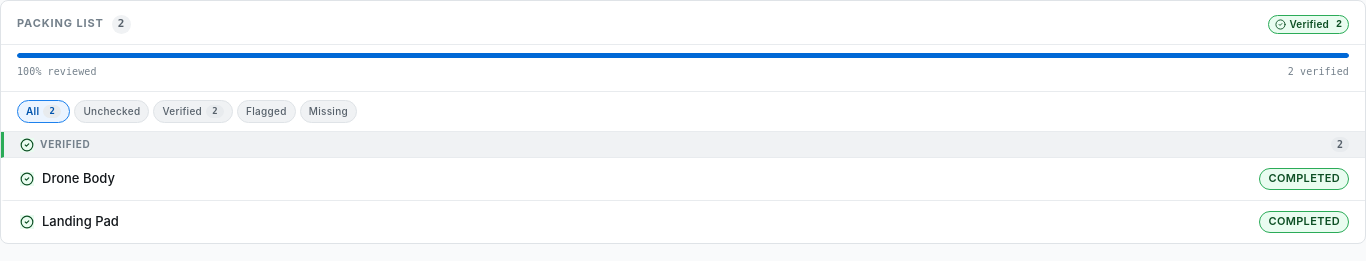
ManifestPanel › shows filtered empty-state when active filter matches no items
Click the button with aria-label "Show missing items": (328, 112) [300,100,357,123]
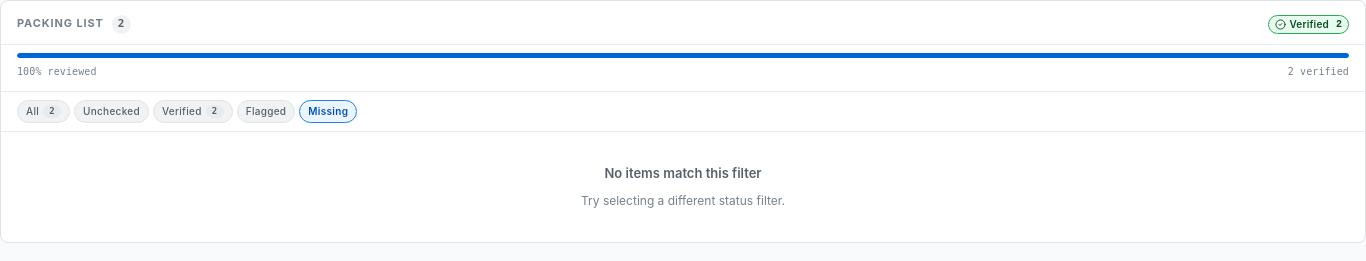
Check: the element with test id "manifest-empty-filtered" is shown, box [581,165,785,208]
Check: the text "No items match this filter" is shown, box [604,164,762,184]
